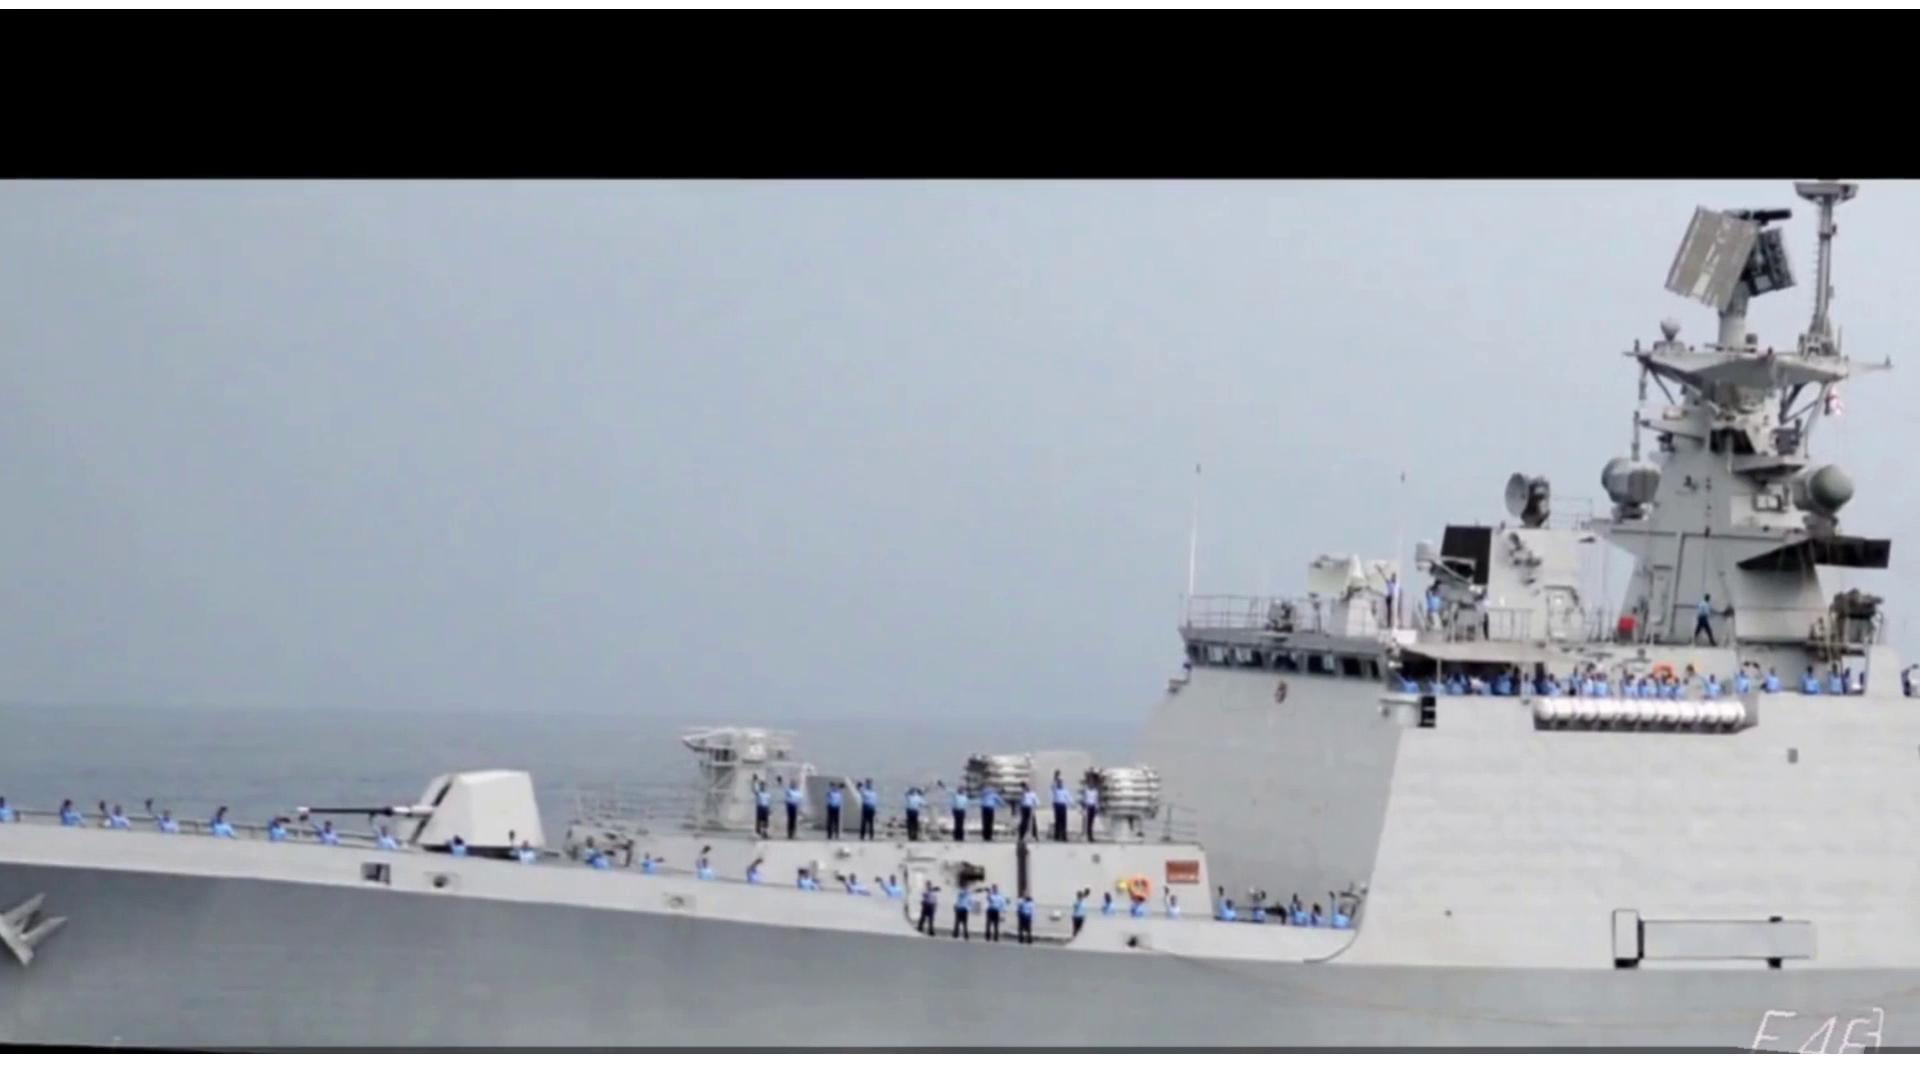OCR: (1738, 992, 1874, 1054)
